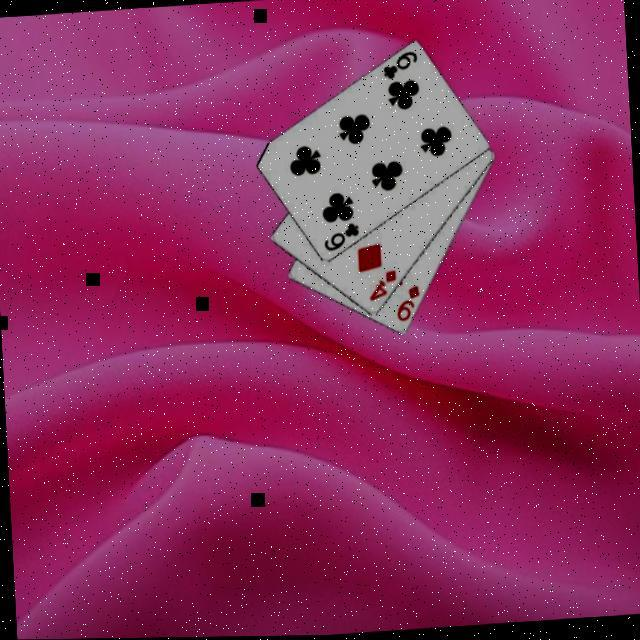4D: (363, 266, 398, 303)
6C: (318, 219, 361, 253), (377, 48, 419, 82)
9D: (391, 283, 421, 324)
